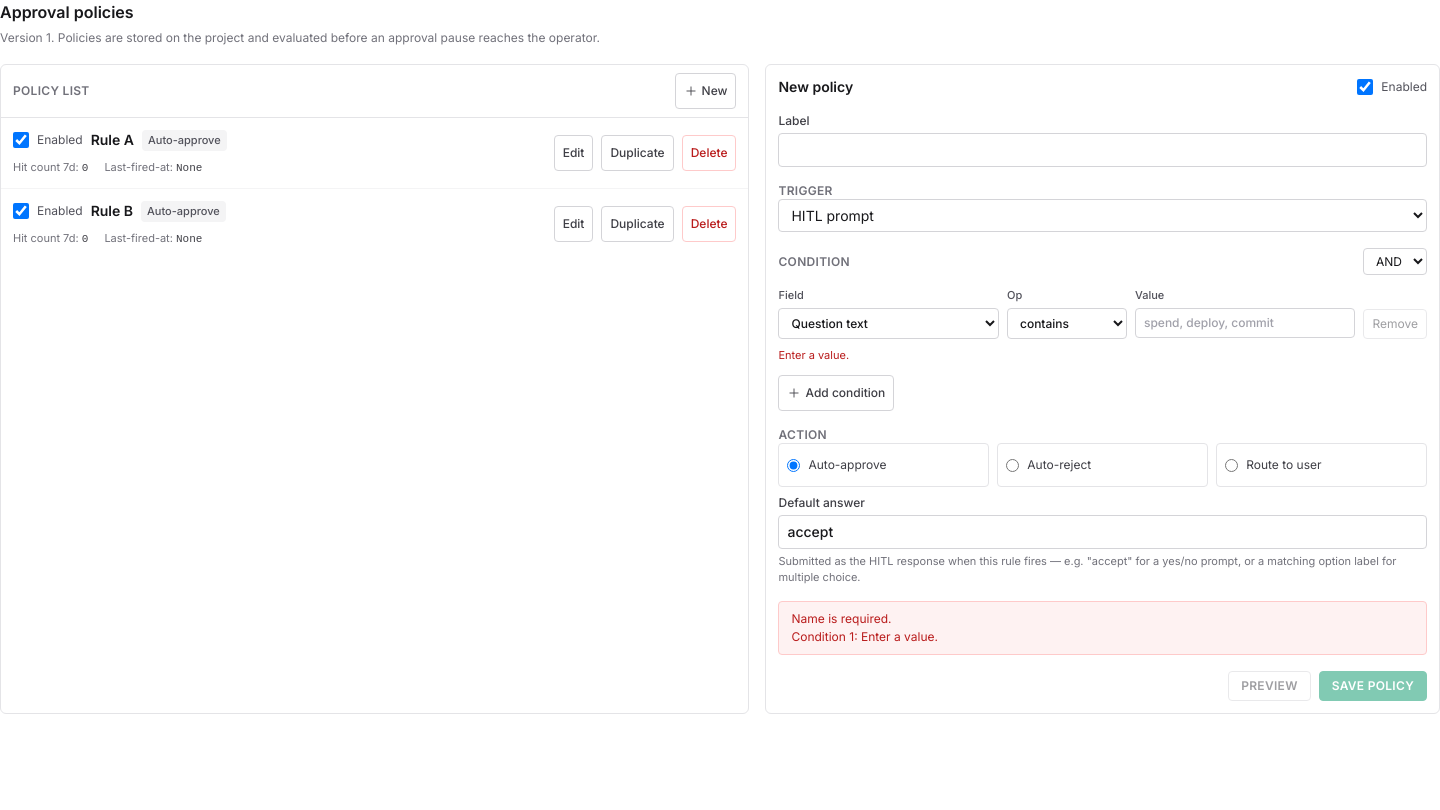
Test: M1 — unsaved-draft guard › 'Discard draft and continue' runs the originally-blocked action
Click the button "Edit" in the row of "Rule A" at [574, 153], box x1=554 y1=135 x2=594 y2=171
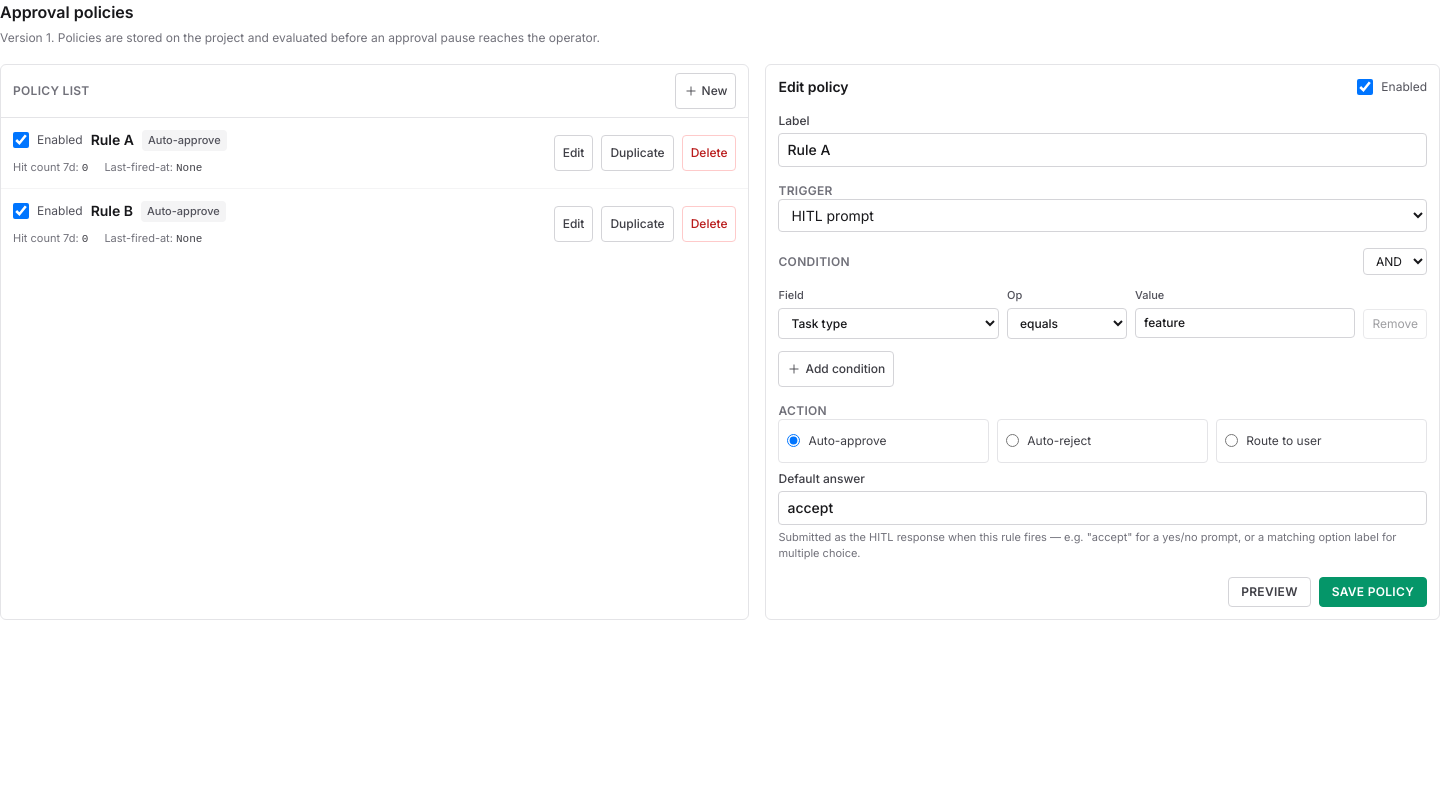
Expected: the heading "Edit policy" is shown, x1=778 y1=77 x2=849 y2=97
Click the checkbox labelled "Enabled" in the row of "Rule B" at [21, 211], box x1=13 y1=203 x2=29 y2=219
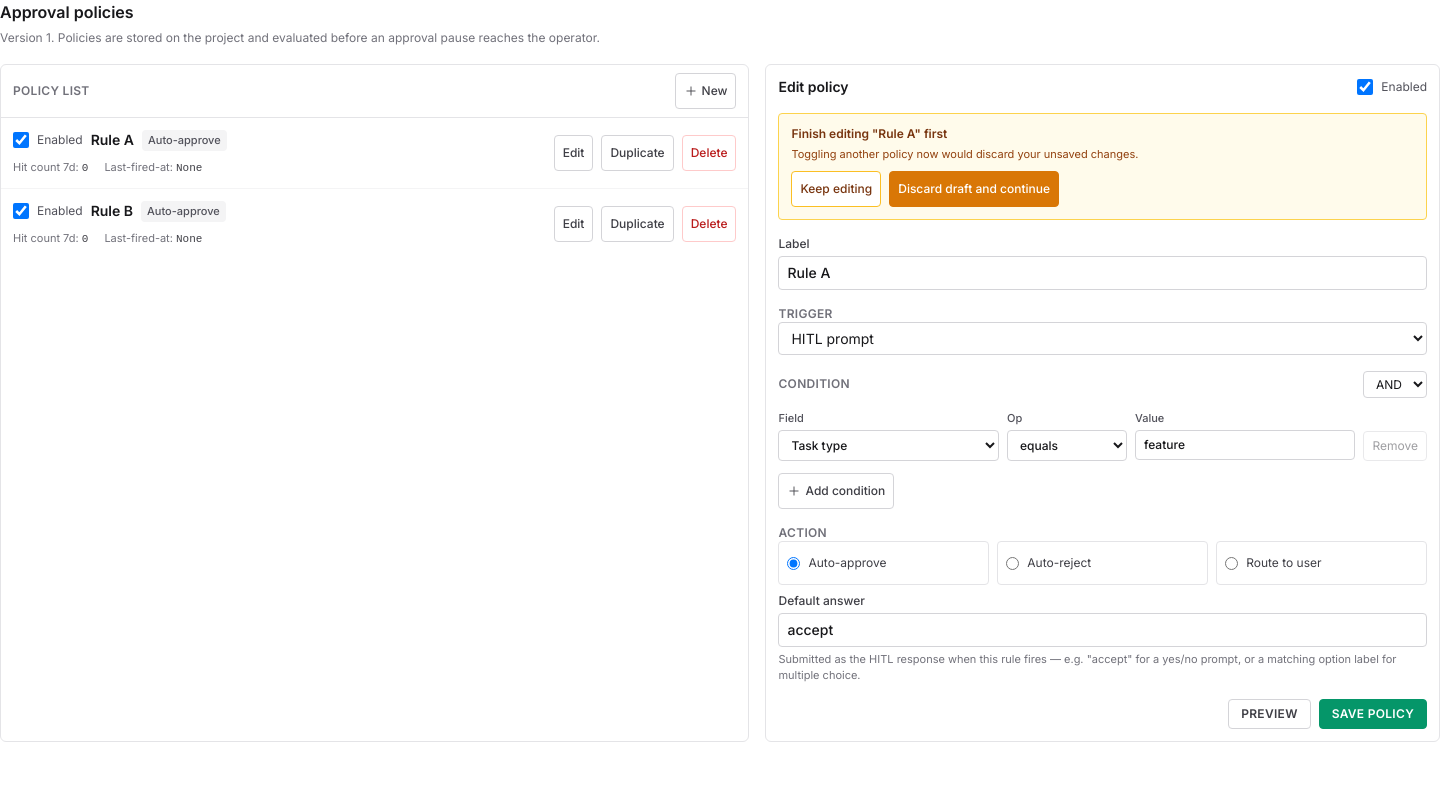
Expected: the text "Finish editing \"Rule A\" first" is shown, x1=792 y1=126 x2=947 y2=141
Click the button "Discard draft and continue" at [974, 188], box x1=889 y1=170 x2=1059 y2=206
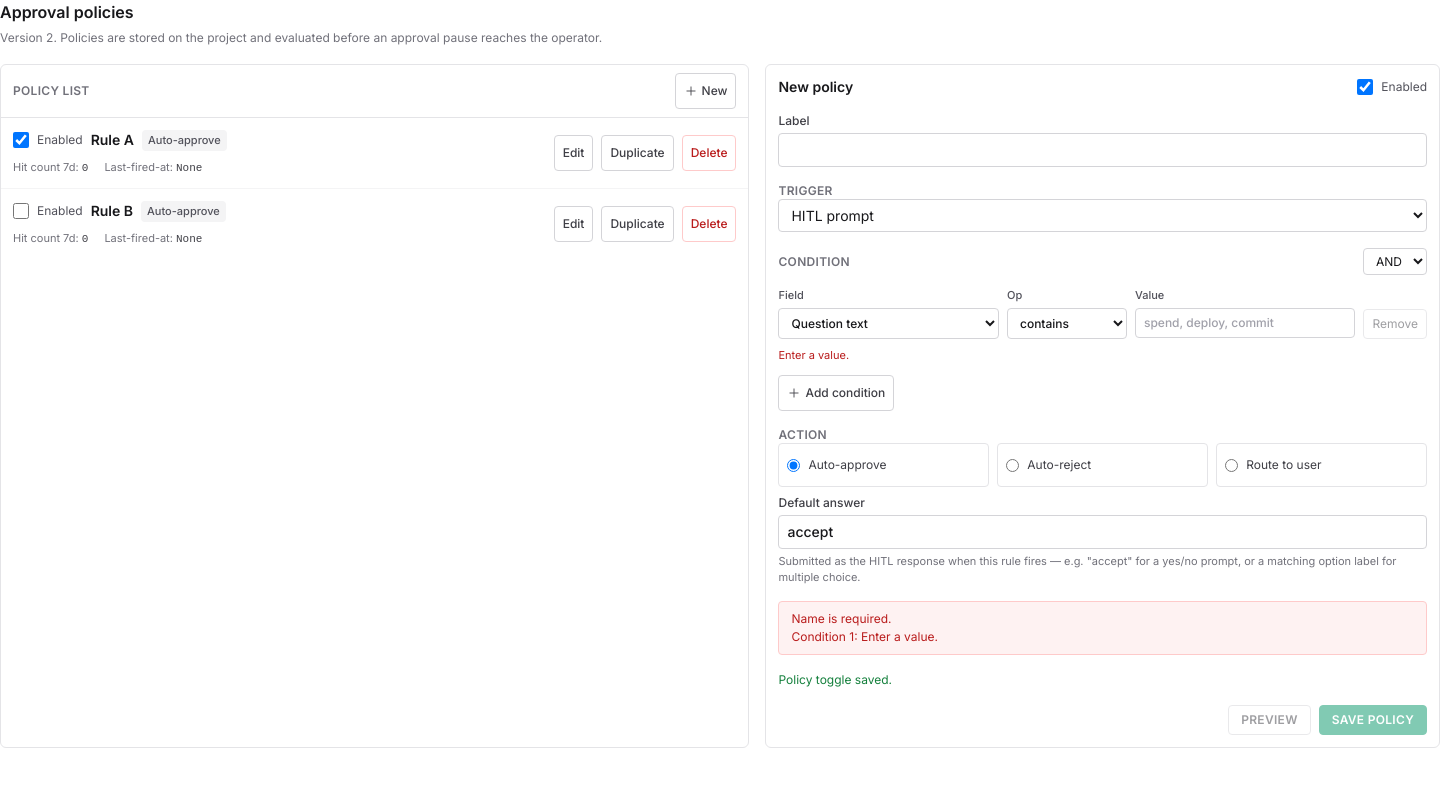
Expected: the text "Finish editing" is gone
